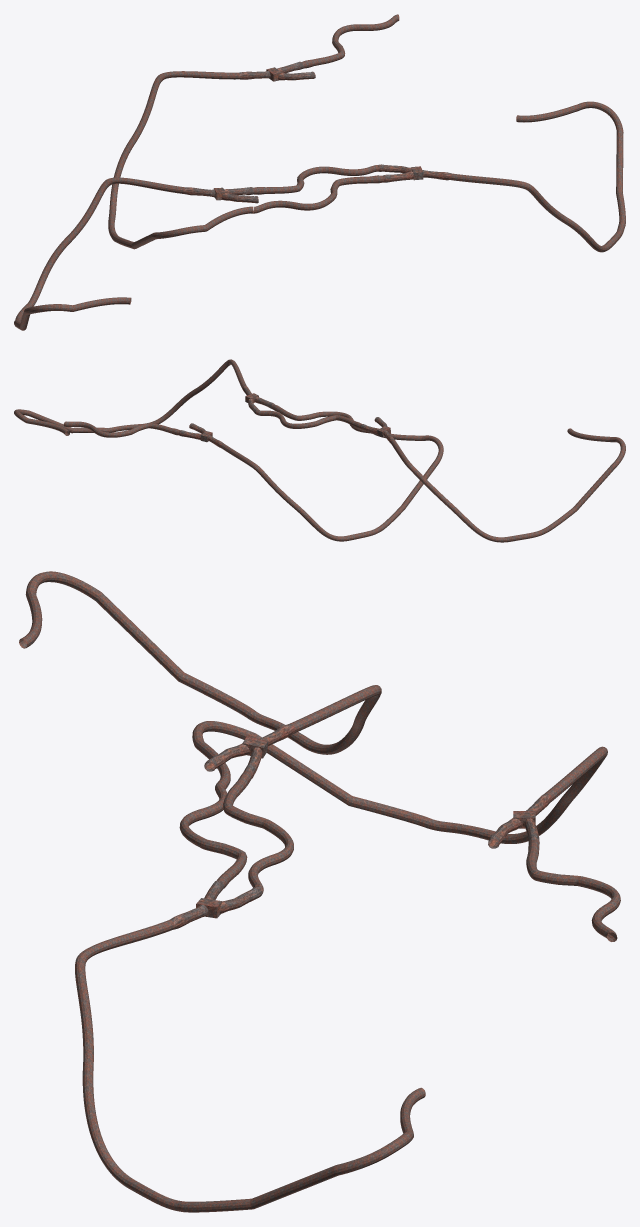
The model's file is betapath1.fbx.
The picture shows the model from 3 angles, top to bottom: view 1: azimuth 30°, elevation 25°; view 2: azimuth 150°, elevation 25°; view 3: azimuth 270°, elevation 25°; orthographic projection. The views are drawn at different scales.
Visible parts, largest first — view 1: polySurface8; view 2: polySurface8; view 3: polySurface8.
Boxes of the visible parts, x1=… form: polySurface8: x1=14, y1=14, x2=625, y2=330; polySurface8: x1=14, y1=359, x2=625, y2=542; polySurface8: x1=19, y1=571, x2=620, y2=1212.
Bounding box in the file's own units: 227 × 44.35 × 111.
Materials: 2 (2 with a texture image).
